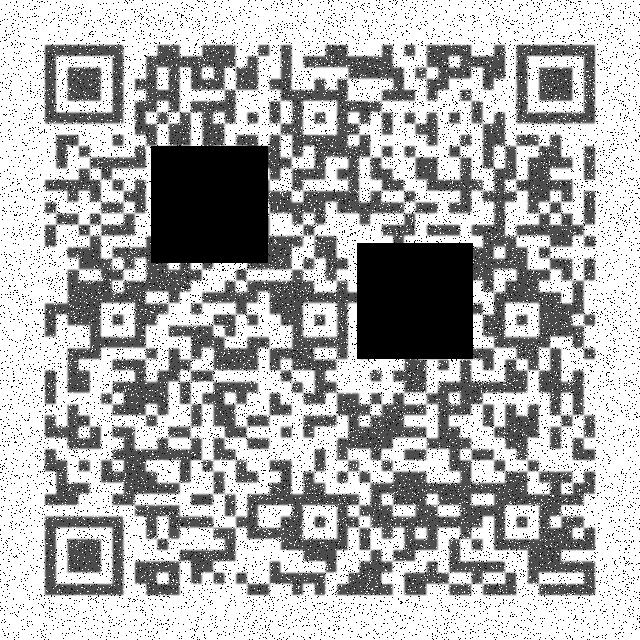QR_CODE: (35, 27, 608, 605)
